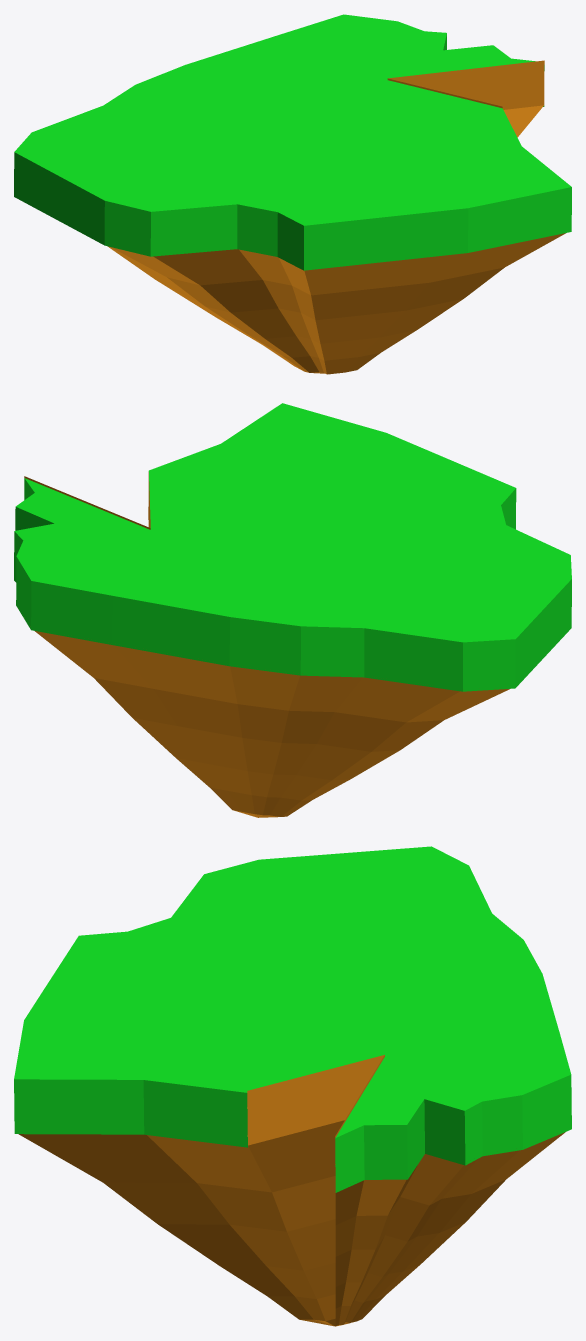
Rendered from genericIsland.fbx.
3 renders of one model, top to bottom at view 1: azimuth 30°, elevation 25°; view 2: azimuth 150°, elevation 25°; view 3: azimuth 270°, elevation 25°, orthographic. The views are drawn at different scales.
Parts seen in each view (by area): view 1: Vert.001; view 2: Vert.001; view 3: Vert.001.
Boxes of the visible parts, x1,y1,x2,y2 form: Vert.001: [14, 14, 571, 374]; Vert.001: [14, 403, 571, 817]; Vert.001: [14, 846, 571, 1326].
Bounding box in the file's own units: 2195 × 1119 × 1779.
